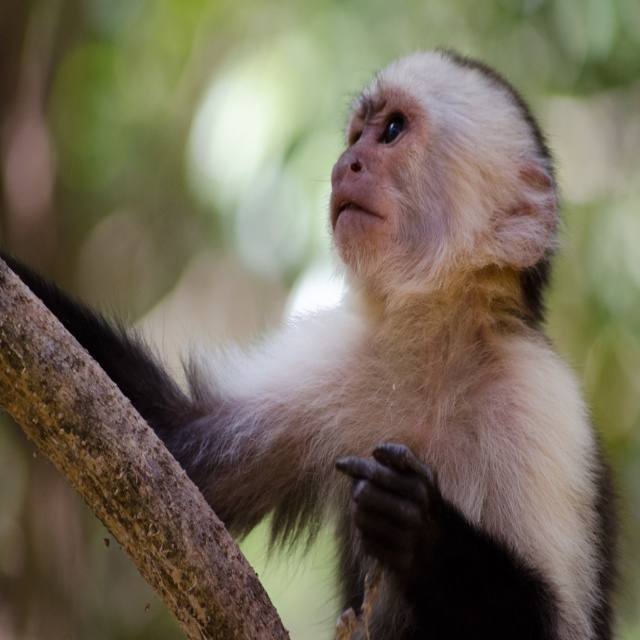Monkey: (0, 48, 628, 639)
